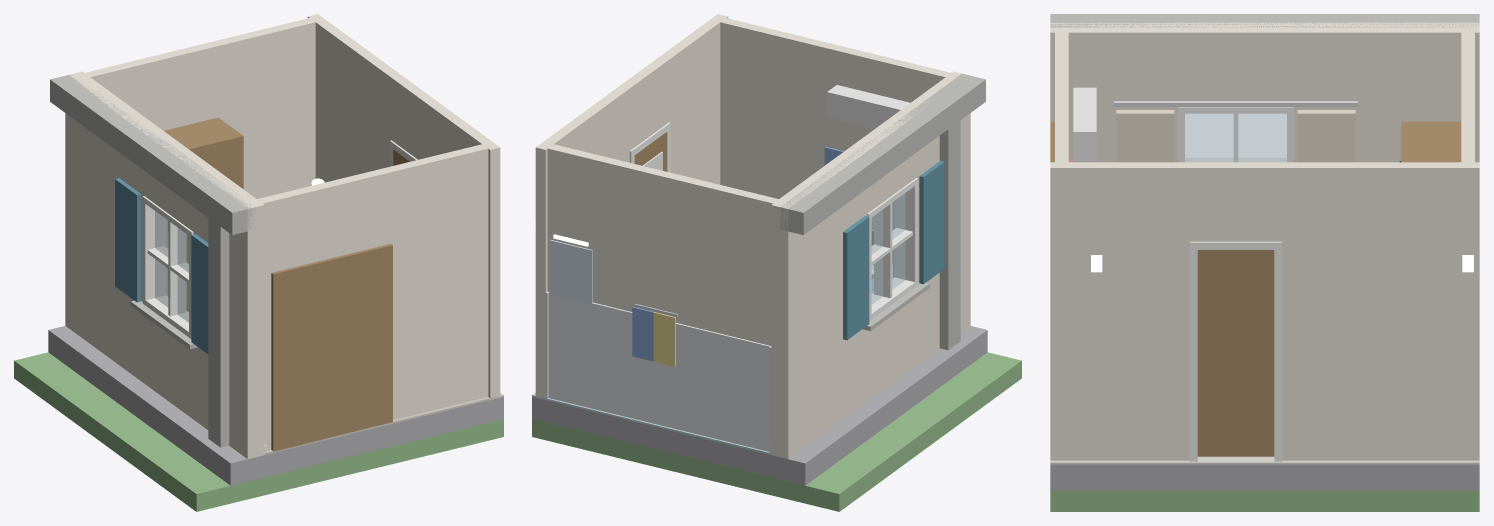
Rendered from tube_bed2.glb.
3 views of the same model, side by side, from view 1: azimuth 30°, elevation 25°; view 2: azimuth 150°, elevation 25°; view 3: azimuth 270°, elevation 25° (orthographic). The views are drawn at different scales.
Parts seen in each view (by area): view 1: wall, wood, grass, foundation, concrete, trim, door, glass, floor_carpet, stone; view 2: wall, wall_tile, grass, foundation, concrete, trim, door, mirror, white, glass, cloth2, cloth3 (+3 smaller); view 3: wall, wood, foundation, grass, trim, curtain_warm, concrete, glass, floor_corridor, white, metal.
Part boxes in pixels (<box>): wall: <box>65,14,500,458</box>; wood: <box>164,117,409,452</box>; grass: <box>14,352,503,511</box>; foundation: <box>48,326,503,485</box>; concrete: <box>50,75,256,447</box>; trim: <box>142,140,417,453</box>; door: <box>115,178,208,354</box>; glass: <box>155,211,188,322</box>; floor_carpet: <box>264,397,495,454</box>; stone: <box>130,300,197,349</box>; wall: <box>535,14,970,458</box>; wall_tile: <box>545,291,771,454</box>; grass: <box>532,352,1021,511</box>; foundation: <box>532,326,987,485</box>; concrete: <box>779,73,985,350</box>; trim: <box>629,122,917,454</box>; door: <box>843,161,944,340</box>; mirror: <box>549,239,592,303</box>; white: <box>827,85,910,278</box>; glass: <box>872,193,905,303</box>; cloth2: <box>632,147,873,361</box>; cloth3: <box>653,312,675,366</box>; wall: <box>1050,22,1479,460</box>; wood: <box>1050,121,1461,456</box>; foundation: <box>1050,464,1479,490</box>; grass: <box>1050,491,1479,511</box>; trim: <box>1178,107,1293,461</box>; curtain_warm: <box>1116,110,1355,162</box>; concrete: <box>1050,14,1479,27</box>; glass: <box>1185,114,1286,161</box>; floor_corridor: <box>1050,457,1479,464</box>; white: <box>1073,87,1096,161</box>; metal: <box>1114,101,1357,106</box>.
Size of the model in its own units: 3.6 by 3.25 by 3.7.
